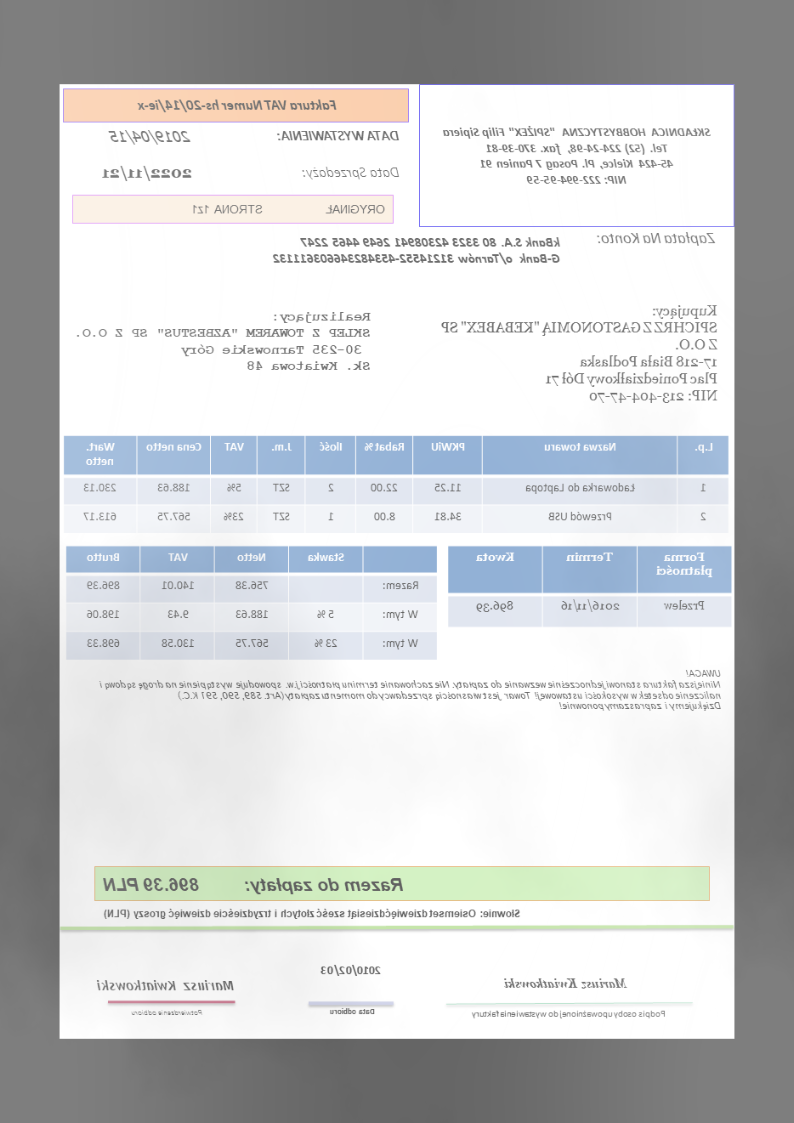Table: (61, 434, 731, 536), (66, 543, 439, 661), (448, 544, 733, 628)
TextBox: (436, 299, 723, 405), (95, 665, 724, 713), (76, 308, 375, 375), (441, 123, 712, 186), (270, 233, 564, 265), (99, 904, 523, 923), (99, 871, 406, 897), (137, 96, 339, 114), (469, 1005, 669, 1023), (189, 200, 388, 218), (92, 977, 236, 995), (502, 972, 630, 992), (594, 229, 720, 247), (275, 126, 401, 143), (301, 162, 402, 182), (101, 164, 196, 185), (107, 127, 194, 145), (129, 1005, 205, 1021), (320, 961, 384, 979), (327, 1005, 378, 1017)
